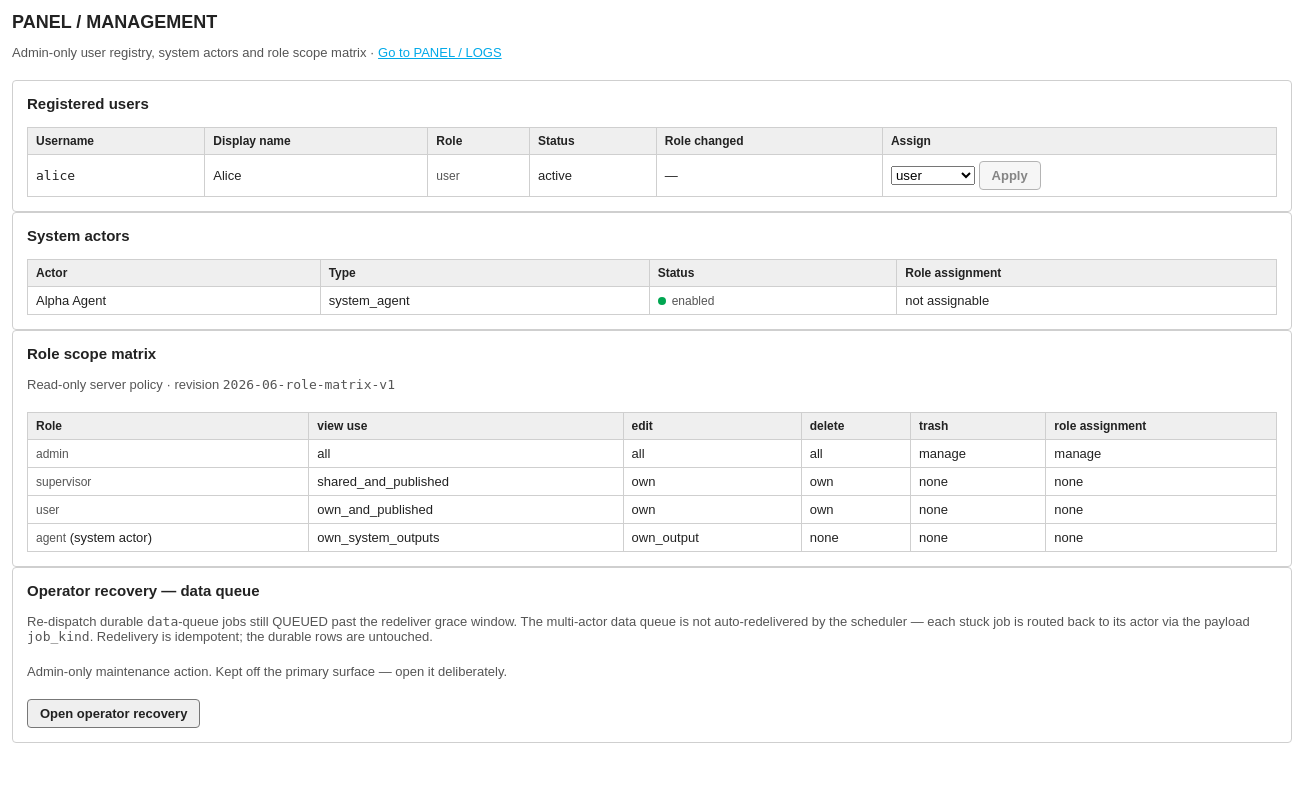
Test case: Panel / Management page › reports a no-op role save as 'No role change was needed.' (doc 19 §4.2)
This screenshot has width=1292, height=812.
Expected: the text "alice" is shown, [36,168,75,183]
Select "supervisor" in the dropdown named "Role for alice" at (933, 176), box [891,166,975,185]
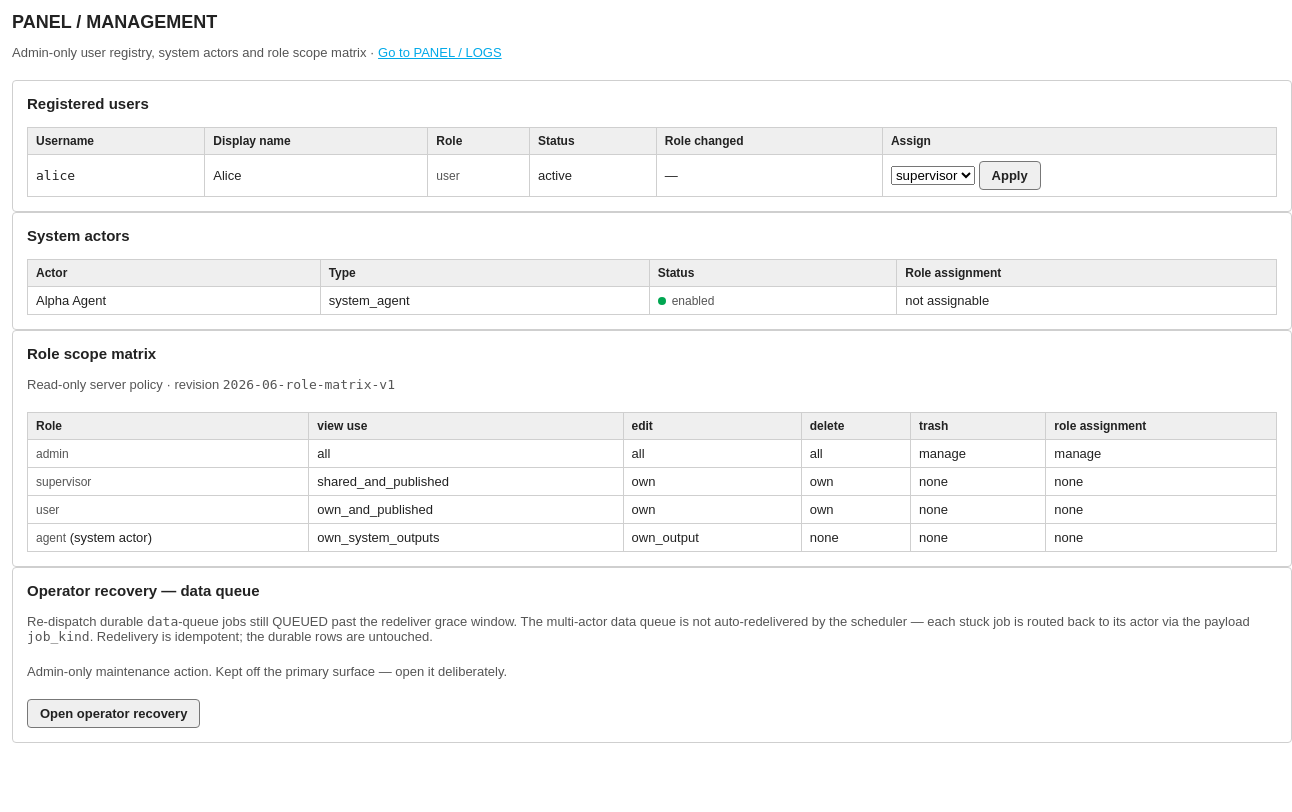
Click the button "Apply" at (1010, 176), box [978,161,1041,190]
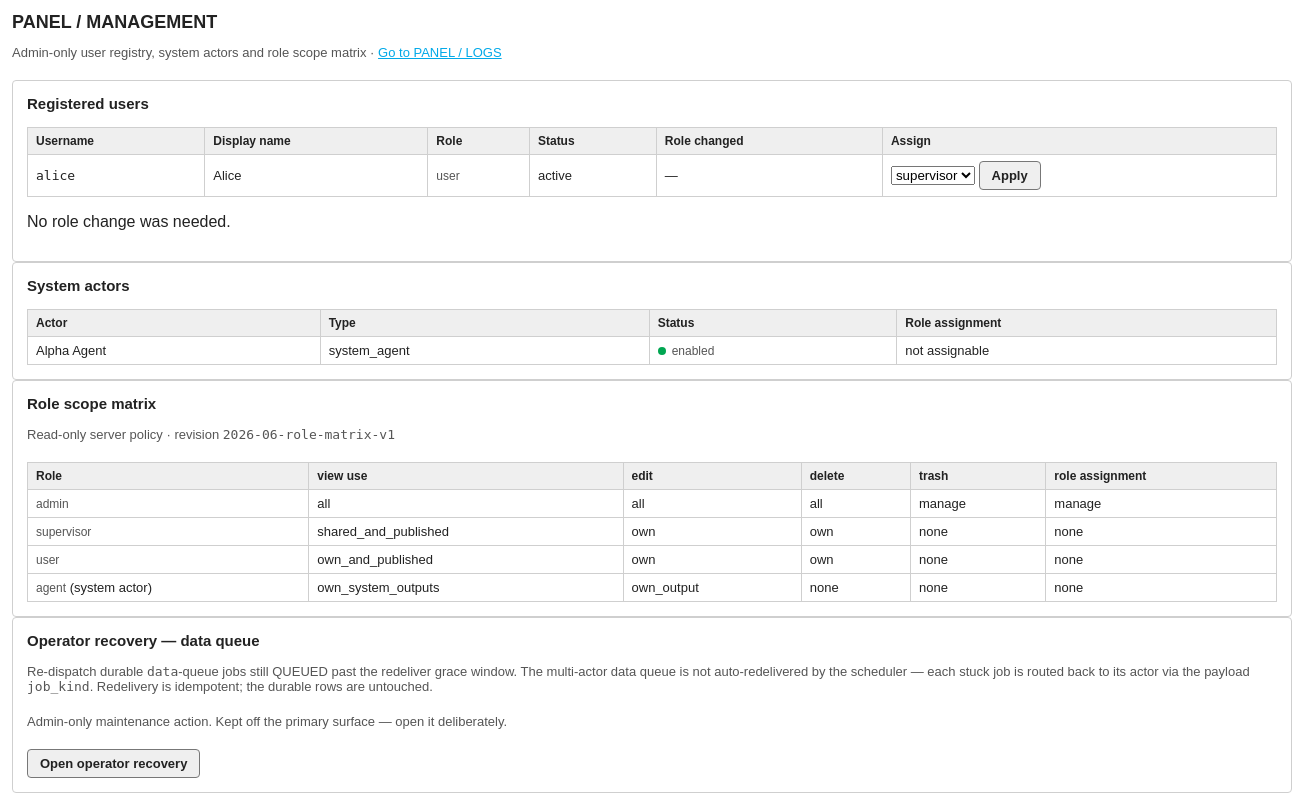
Expected: the text "No role change was needed." is shown, [27,213,231,230]
